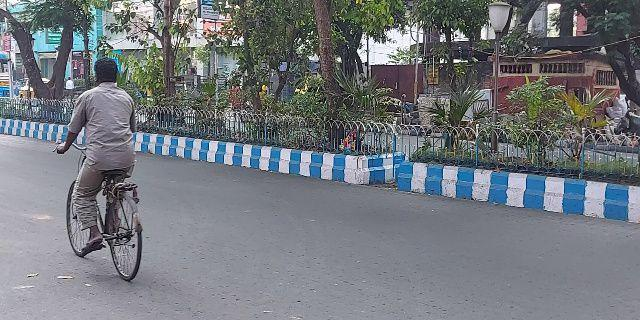Cycle: (52, 51, 156, 289)
